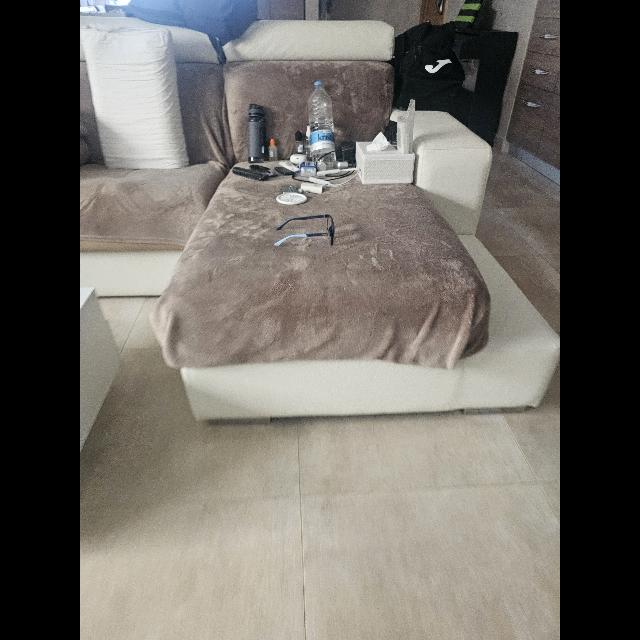glasses: (275, 214, 335, 246)
